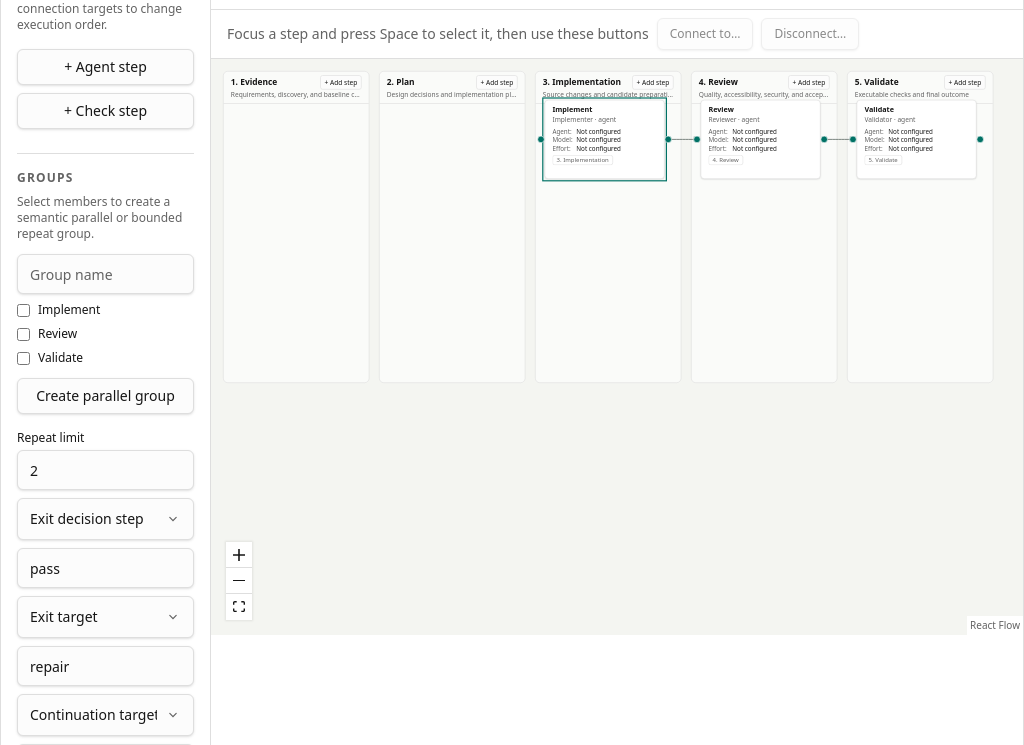
keyboard linking in the Graph view › lists an existing connection as already connected and does not add it twice
The width and height of the screenshot is (1024, 745).
(page scrolled)
Type keys "c"
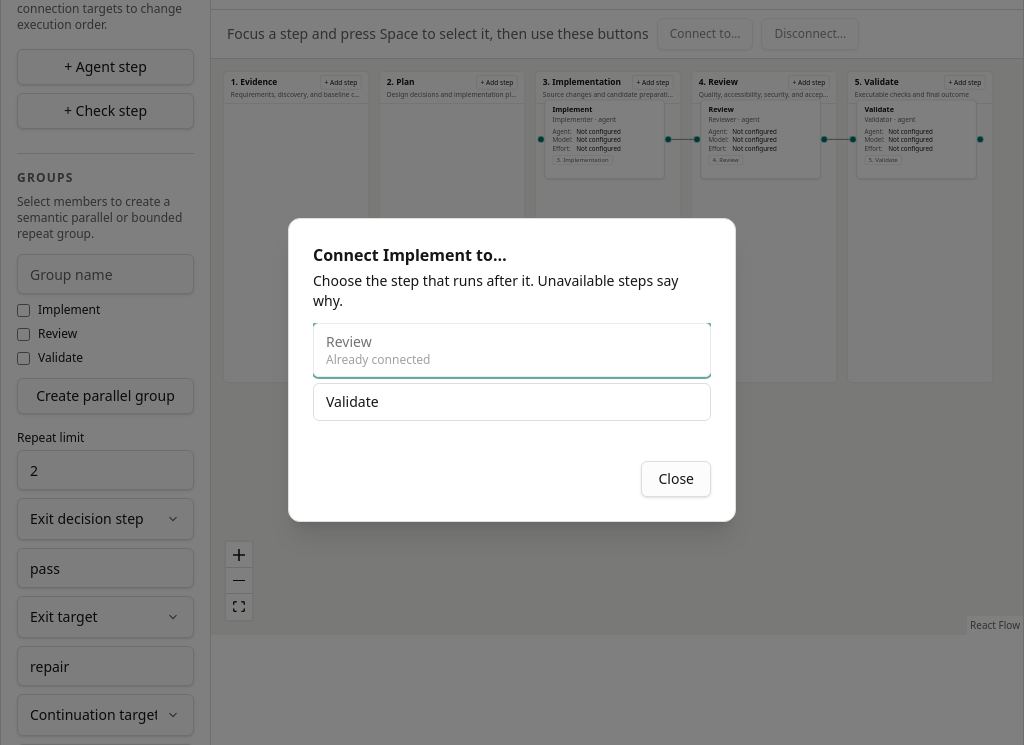
Expected: the button "Review Already connected" is shown
Click the button "Review Already connected": (349, 342) [313, 323, 711, 377]
(page scrolled)
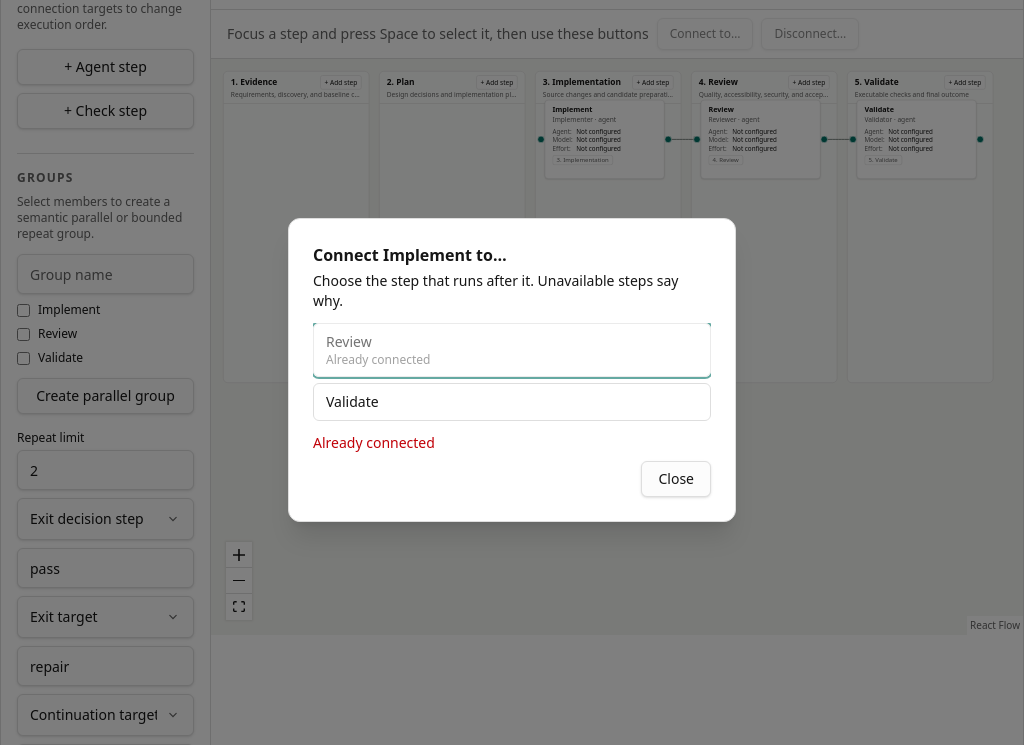
Expected: the 2nd text "Already connected" is shown, [313, 433, 435, 452]
